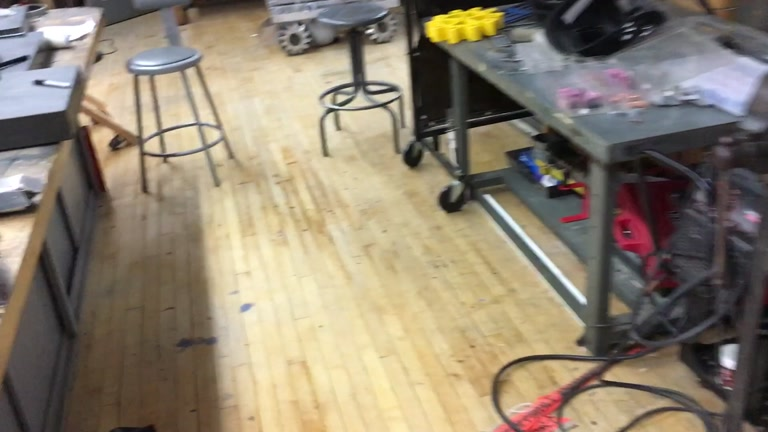gear: (424, 5, 505, 45)
